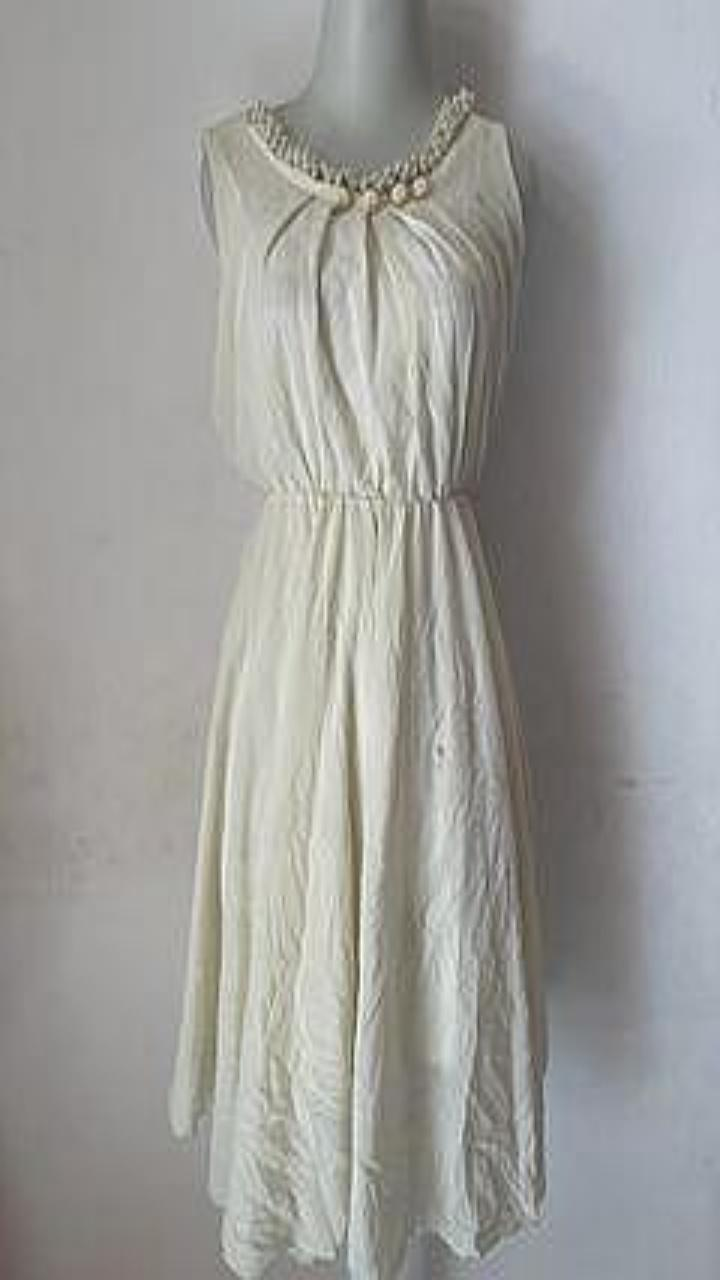Dresses: (169, 86, 546, 1279)
